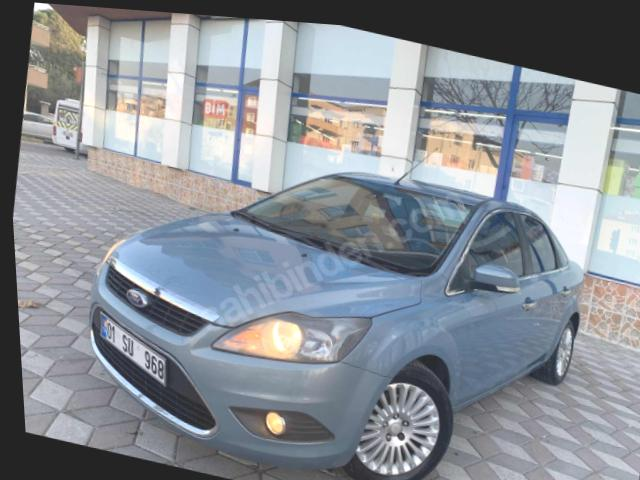plaka: (101, 313, 165, 386)
